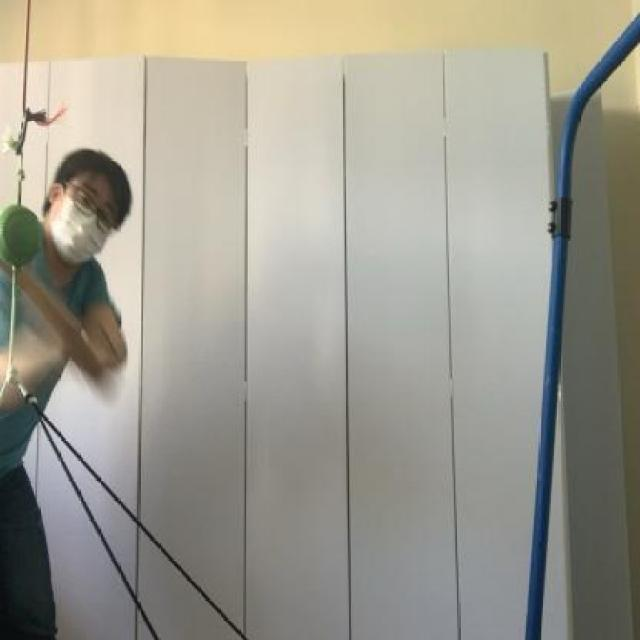baseball: (0, 195, 38, 262)
